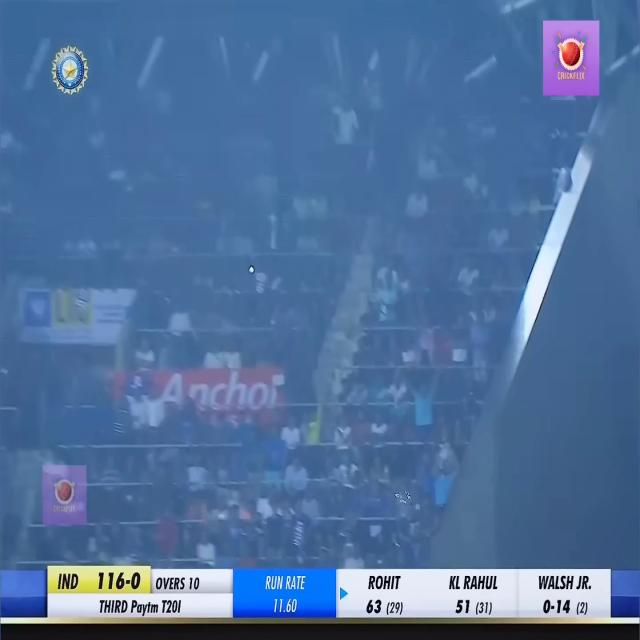fully_visible: (130, 595, 160, 616)
